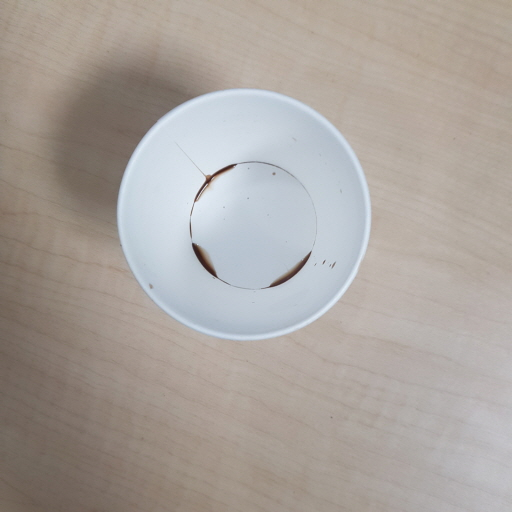Paper_1: (118, 88, 373, 343)
